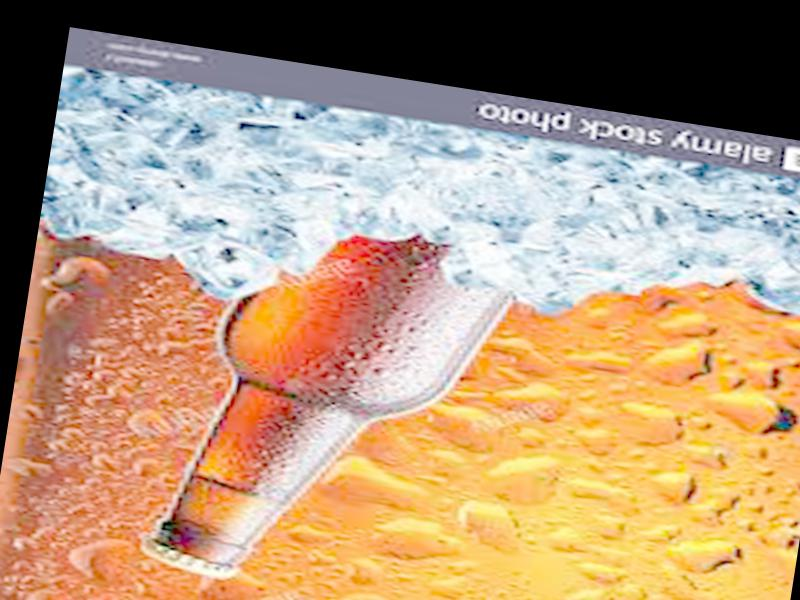Beer: (121, 195, 515, 600)
